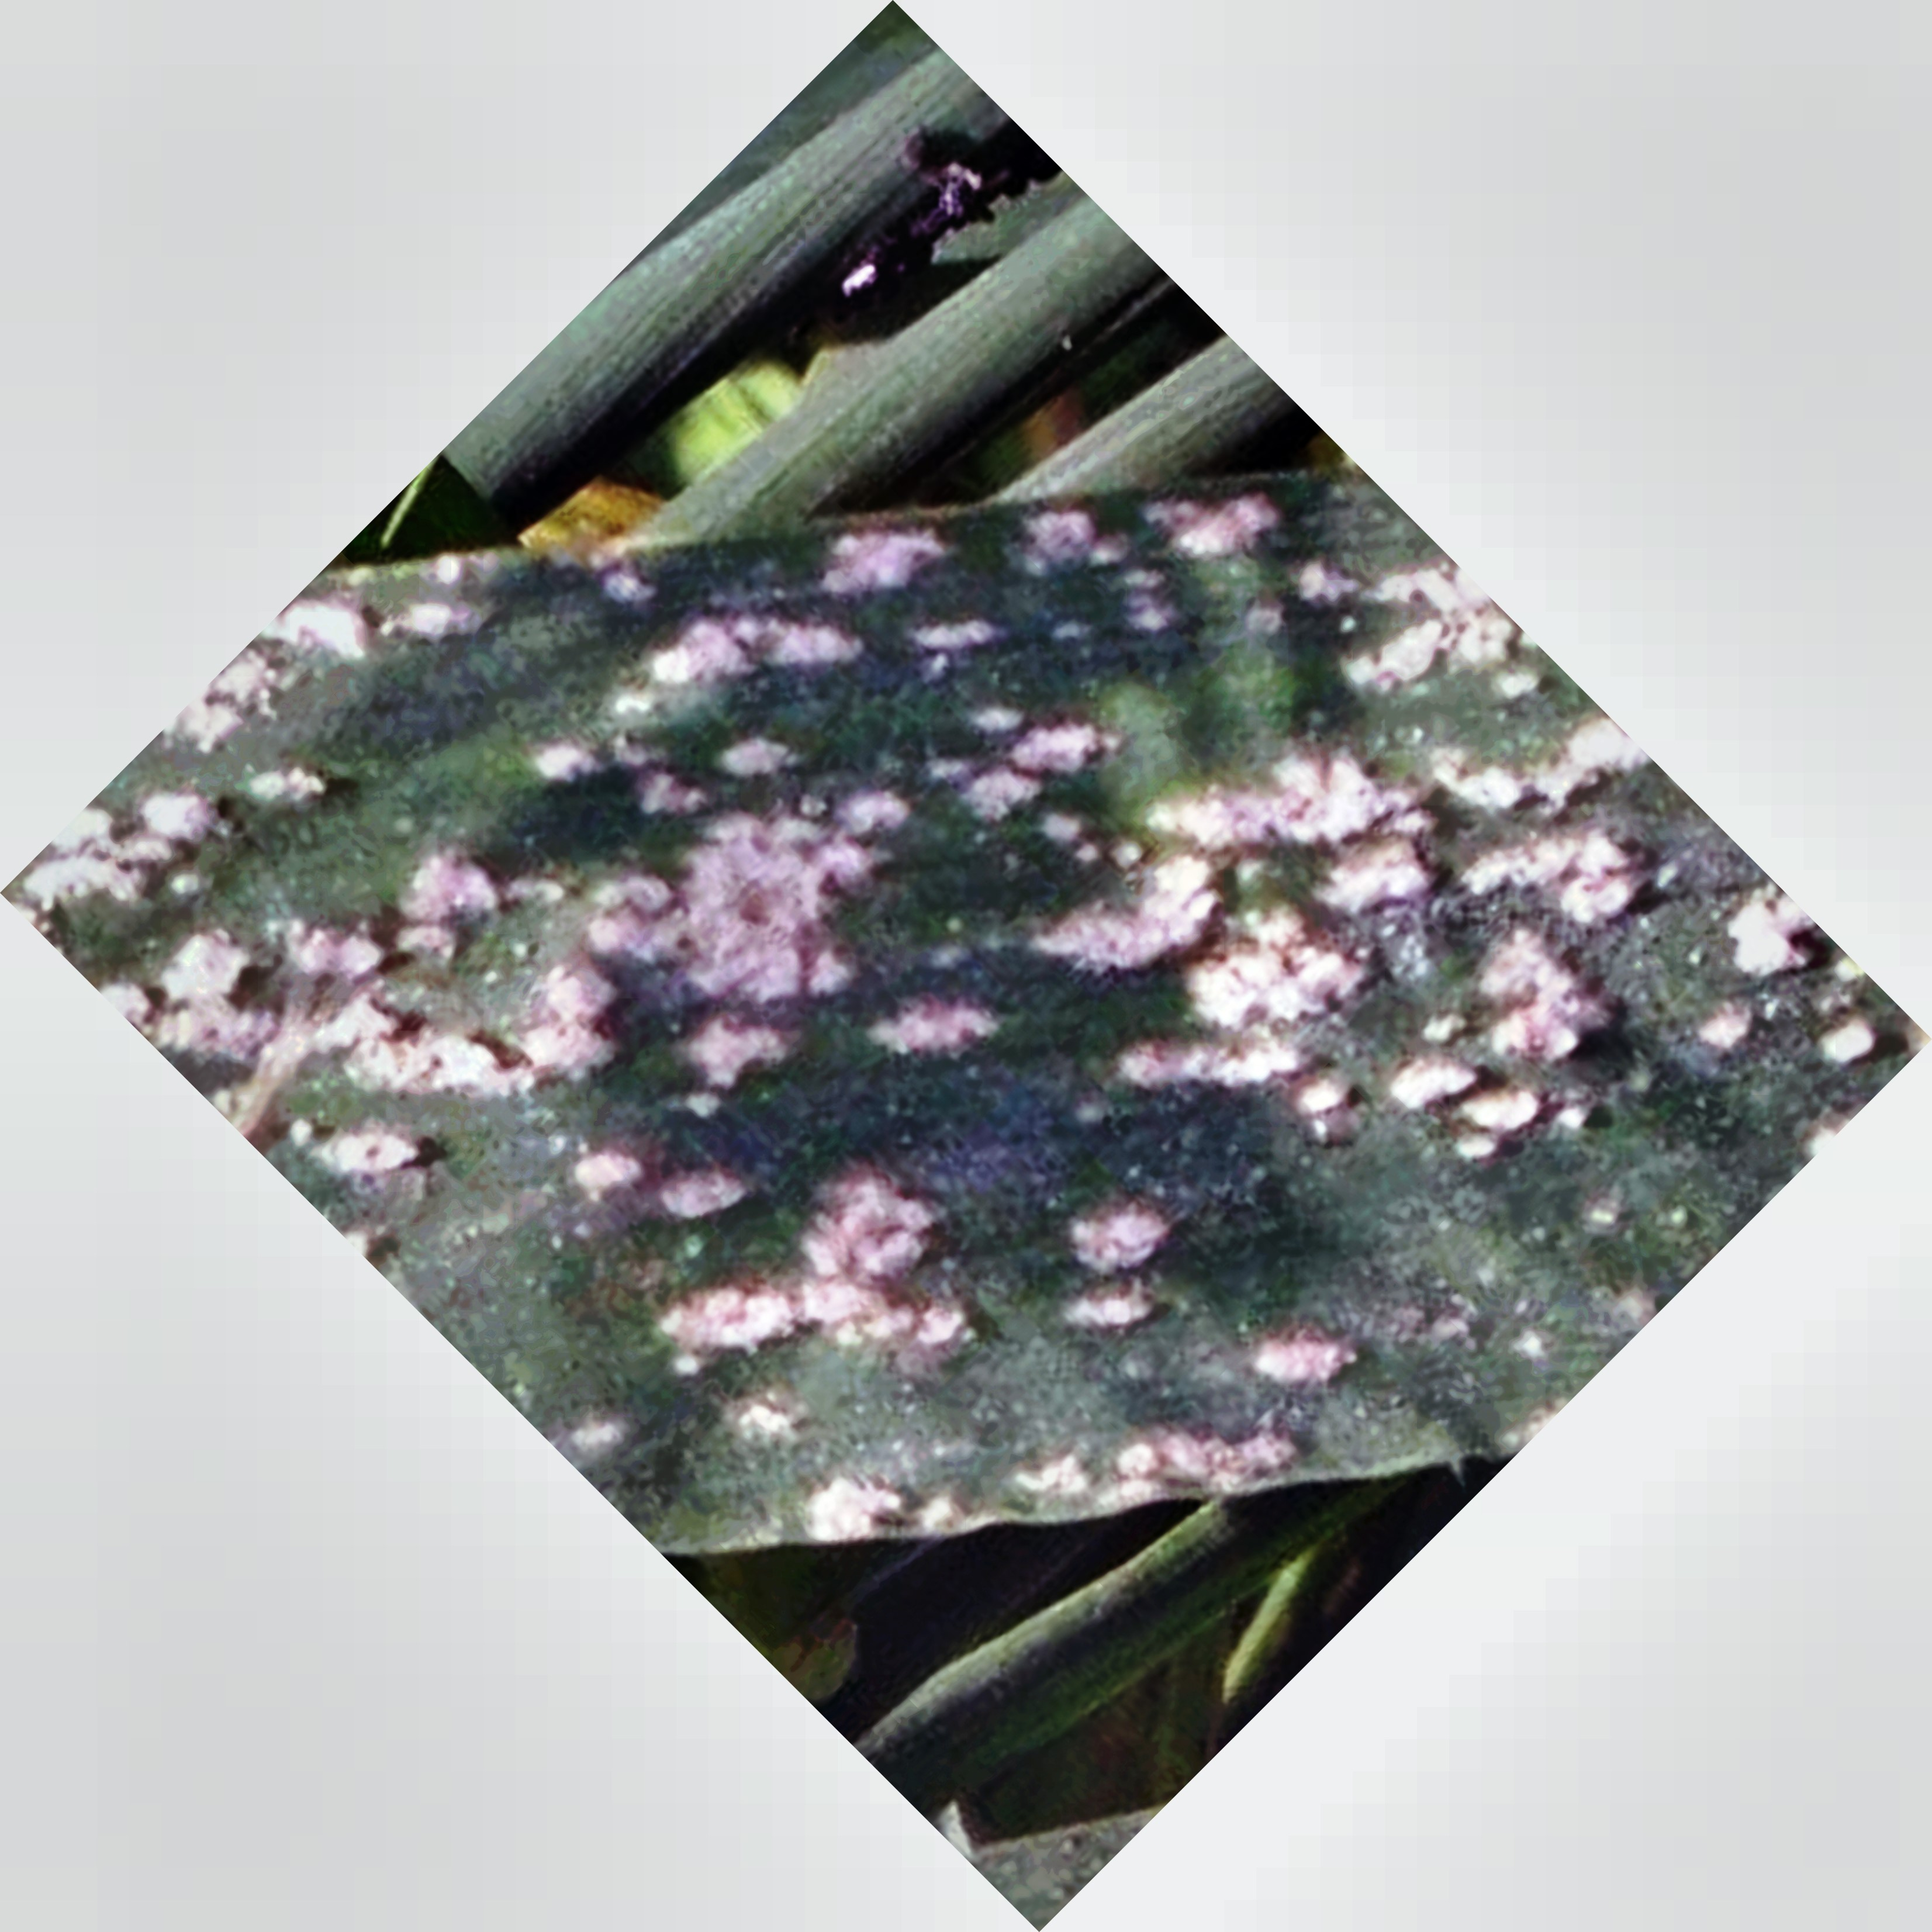Powdery Mildew: (189, 563, 1720, 1460)
